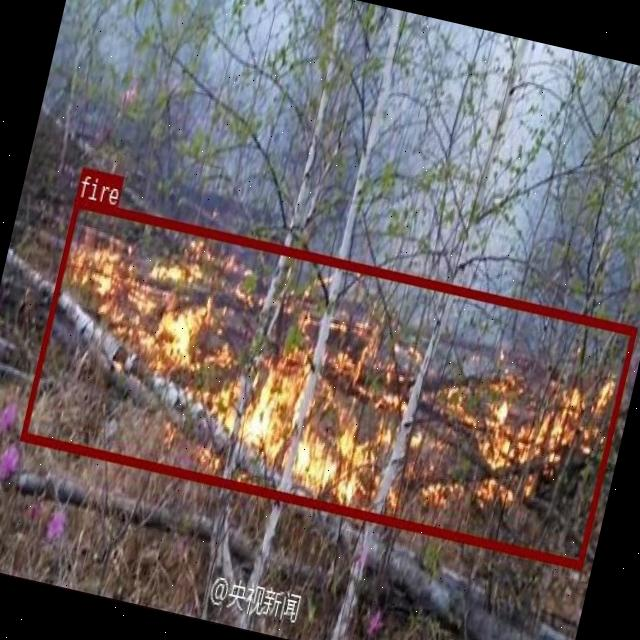fire: (19, 197, 636, 568)
